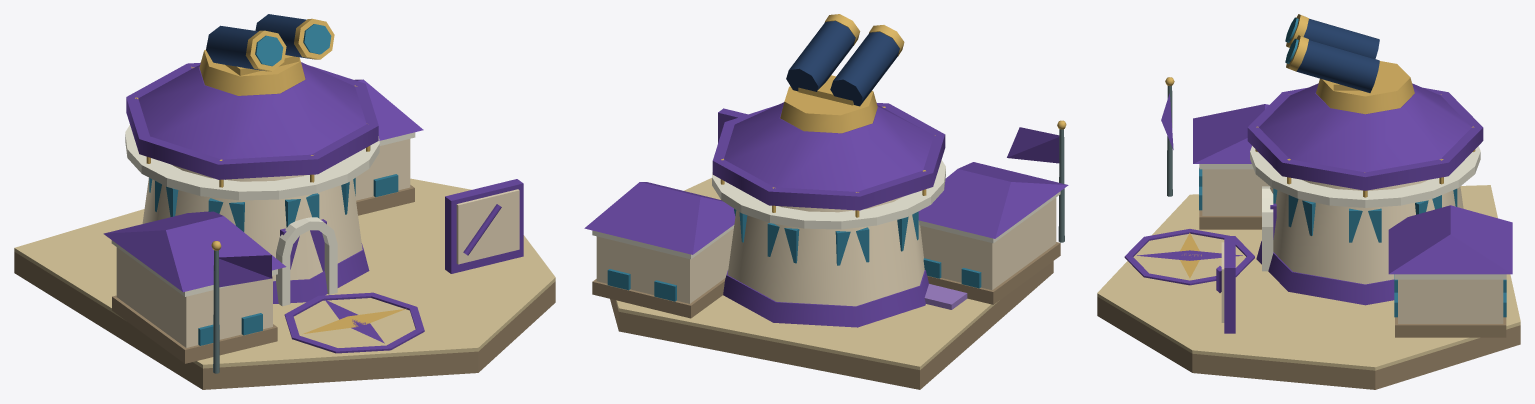
File: scout-center-lv3.glb
The picture shows the model from 3 angles, left to right: view 1: azimuth 30°, elevation 25°; view 2: azimuth 150°, elevation 25°; view 3: azimuth 270°, elevation 25°; orthographic projection. The views are drawn at different scales.
Parts seen in each view (by area): view 1: foundation_sand, faceted_roof_violet, foundation_stoneDark, octagonal_office_cream, archive_wing_cream, observation_eave_violet, archive_wing_roof_violet, observation_balcony_white, map_board_cream, archive_wing_stoneDark, compass_violet, roof_binoculars_naval (+17 smaller); view 2: octagonal_office_cream, faceted_roof_violet, foundation_sand, foundation_stoneDark, analysis_wing_roof_violet, archive_wing_roof_violet, observation_eave_violet, archive_wing_cream, roof_binoculars_naval, analysis_wing_cream, office_plinth_violet, observation_balcony_white (+13 smaller); view 3: foundation_sand, faceted_roof_violet, octagonal_office_cream, foundation_stoneDark, analysis_wing_roof_violet, observation_eave_violet, analysis_wing_cream, observation_balcony_white, roof_binoculars_naval, archive_wing_roof_violet, optic_pedestal_gold, office_plinth_violet (+11 smaller).
Boxes of the visible parts, <box> form: foundation_sand: <box>14,178,555,368</box>; faceted_roof_violet: <box>138,62,366,159</box>; foundation_stoneDark: <box>14,252,555,389</box>; octagonal_office_cream: <box>142,165,362,281</box>; archive_wing_cream: <box>116,247,272,347</box>; observation_eave_violet: <box>126,62,378,179</box>; archive_wing_roof_violet: <box>103,211,286,292</box>; observation_balcony_white: <box>125,125,379,200</box>; map_board_cream: <box>456,189,519,264</box>; archive_wing_stoneDark: <box>112,295,277,363</box>; compass_violet: <box>284,292,424,353</box>; roof_binoculars_naval: <box>206,14,312,70</box>; octagonal_office_cream: <box>727,196,924,306</box>; faceted_roof_violet: <box>724,102,933,191</box>; foundation_sand: <box>616,178,999,369</box>; foundation_stoneDark: <box>610,261,1053,389</box>; analysis_wing_roof_violet: <box>584,182,735,254</box>; archive_wing_roof_violet: <box>918,162,1068,238</box>; observation_eave_violet: <box>712,103,945,210</box>; archive_wing_cream: <box>920,198,1056,289</box>; roof_binoculars_naval: <box>786,21,899,106</box>; analysis_wing_cream: <box>596,228,733,303</box>; office_plinth_violet: <box>723,270,928,327</box>; observation_balcony_white: <box>712,160,945,229</box>; foundation_sand: <box>1097,185,1520,370</box>; faceted_roof_violet: <box>1259,83,1471,172</box>; octagonal_office_cream: <box>1270,179,1463,284</box>; foundation_stoneDark: <box>1097,297,1520,389</box>; analysis_wing_roof_violet: <box>1388,205,1512,274</box>; observation_eave_violet: <box>1247,87,1483,190</box>; analysis_wing_cream: <box>1398,279,1503,323</box>; observation_balcony_white: <box>1250,146,1480,207</box>; roof_binoculars_naval: <box>1296,18,1379,92</box>; archive_wing_roof_violet: <box>1193,104,1268,163</box>; optic_pedestal_gold: <box>1316,61,1414,114</box>; office_plinth_violet: <box>1256,241,1394,305</box>.
Bounding box in the file's own units: 1 × 0.6559 × 0.9826.
